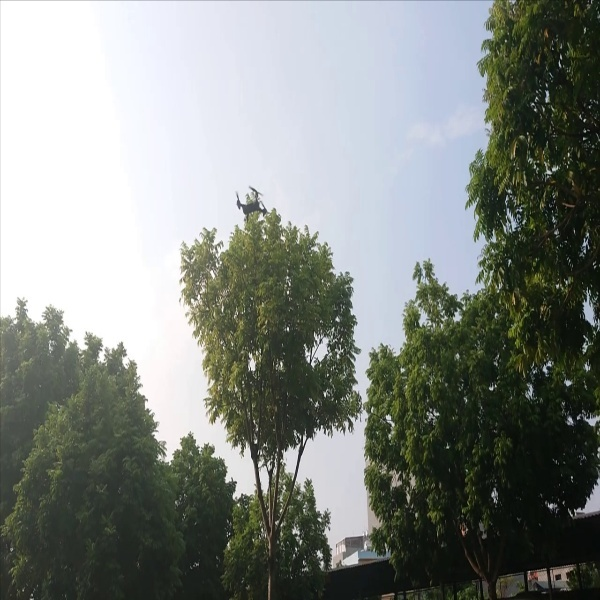drone: (230, 181, 274, 224)
